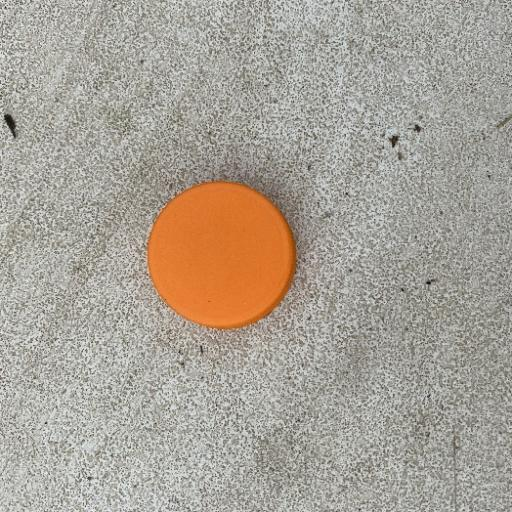Plastic: (145, 179, 298, 331)
